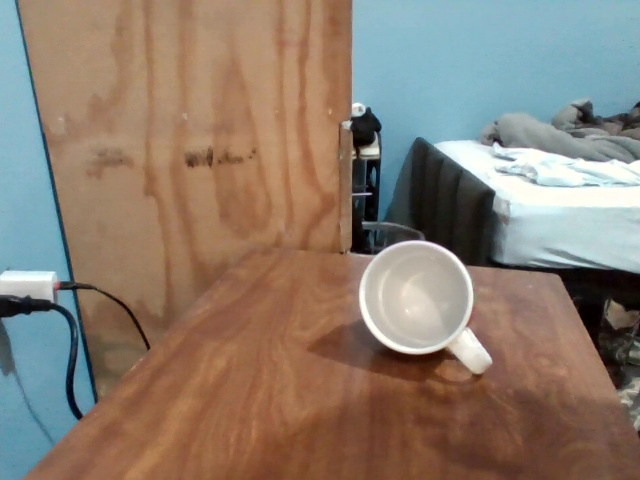taza: (357, 238, 488, 364)
